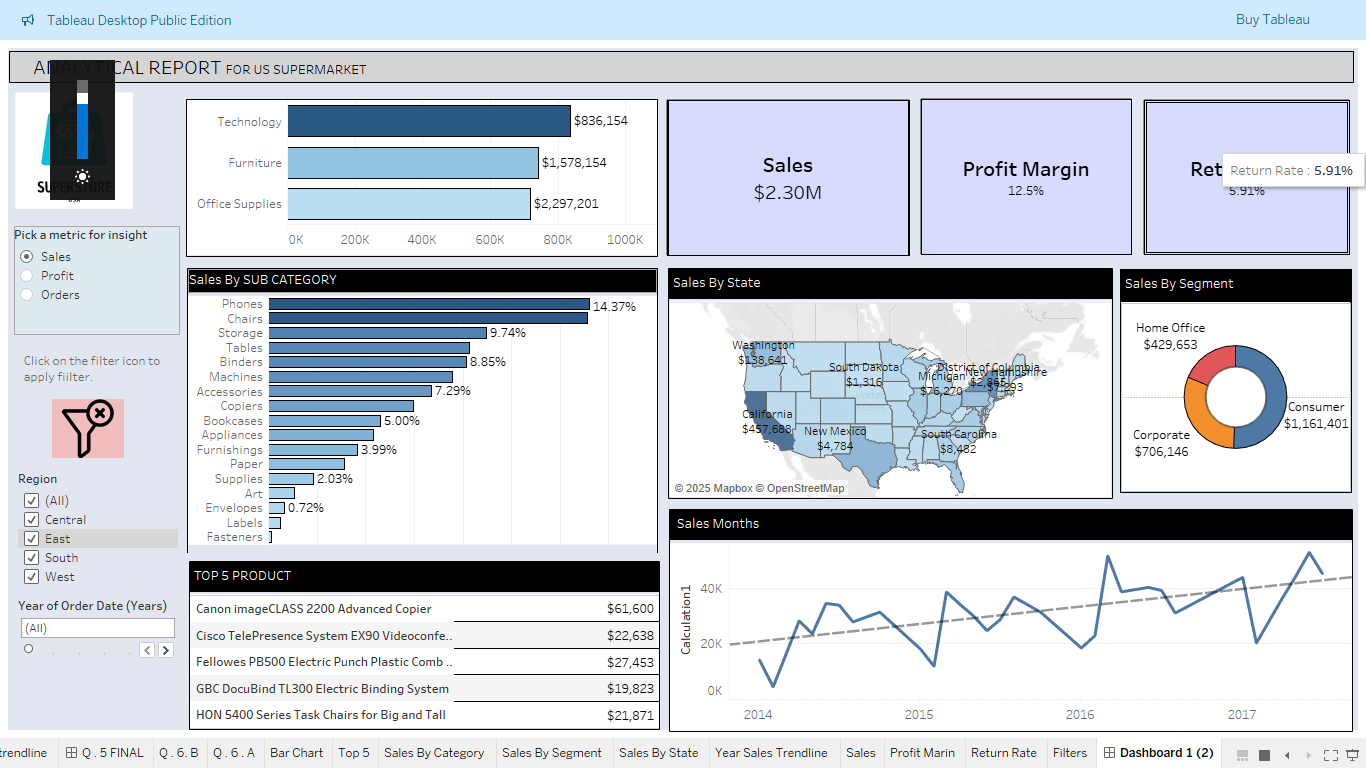

The dashboard page shown, as its layout file describes it:
{"tool":"tableau","page":{"name":"Sales Dashboard ","canvas":[1000,1000],"units":"permille","ordinal":0},"visuals":[{"type":"text","box":[6.7,16.3,984.9,45.3]},{"type":"image","param":"Image/Superstore.jpg","box":[10.9,74.3,121.9,168.5]},{"type":"worksheet","title":"Profit Marin","mark":"Automatic","box":[673.8,83.3,155,224.6]},{"type":"worksheet","title":"Sales By Category","mark":"Automatic","rows":["Category"],"cols":["Calculation_317785268703358977"],"box":[135.9,85.1,345.4,226.5]},{"type":"worksheet","title":"Sales","mark":"Text","box":[487.2,85.1,178.9,224.6]},{"type":"worksheet","title":"Return Rate","mark":"Automatic","box":[836.5,85.1,151.6,222.8]},{"type":"parameter","param":"[Parameters].[Parameter 3]","box":[10.4,266.3,121.2,155.8]},{"type":"worksheet","title":"Bar Chart","mark":"Automatic","rows":["Sub-Category"],"cols":["Calculation_317785268703358977"],"box":[137.2,326.1,345.1,409.4]},{"type":"worksheet","title":"Sales By State","mark":"Automatic","box":[489.2,326.1,325.5,331.5]},{"type":"worksheet","title":"Sales By Segment","mark":"Automatic","rows":["Calculation_850617400101277697","Calculation_850617400101277697"],"box":[820.3,327.9,169.5,320.7]},{"type":"text","box":[15.6,436.6,112.5,67]},{"type":"dashboard-object","box":[38.1,514.5,52.8,85.1]},{"type":"filter","title":"Bar Chart","param":"[federated.19hyo3b1qn2xo51ggypq80lzre0m].[none:Region:nk]","box":[10.4,610.5,122.9,230.1]},{"type":"worksheet","title":"Year Sales Trendline","mark":"Line","rows":["Calculation_317785268703358977"],"cols":["Order Date"],"box":[490,672.1,500.4,318.8]},{"type":"worksheet","title":"Top 5","mark":"Automatic","rows":["Product Name"],"box":[138.1,746.4,345.1,242.8]},{"type":"filter","title":"Bar Chart","param":"[federated.19hyo3b1qn2xo51ggypq80lzre0m].[yr:Order Date (Years):ok]","box":[10.4,840.6,122.9,135.9]}]}

Visuals, with their boxes on the dashboard's canvas, which has no fixed pixel size, in thousandths of its width and height (x1, y1, x2, y2). These are canvas units, not pixel positions in the 1366x768 screenshot, which may show the page scaled, cropped or inside an application window:
text: box(7, 16, 992, 62)
image: box(11, 74, 133, 243)
"Profit Marin" worksheet: box(674, 83, 829, 308)
"Sales By Category" worksheet: box(136, 85, 481, 312)
"Sales" worksheet (Text marks): box(487, 85, 666, 310)
"Return Rate" worksheet: box(836, 85, 988, 308)
parameter: box(10, 266, 132, 422)
"Bar Chart" worksheet: box(137, 326, 482, 736)
"Sales By State" worksheet: box(489, 326, 815, 658)
"Sales By Segment" worksheet: box(820, 328, 990, 649)
text: box(16, 437, 128, 504)
dashboard-object: box(38, 514, 91, 600)
"Bar Chart" filter: box(10, 610, 133, 841)
"Year Sales Trendline" worksheet (Line marks): box(490, 672, 990, 991)
"Top 5" worksheet: box(138, 746, 483, 989)
"Bar Chart" filter: box(10, 841, 133, 976)
